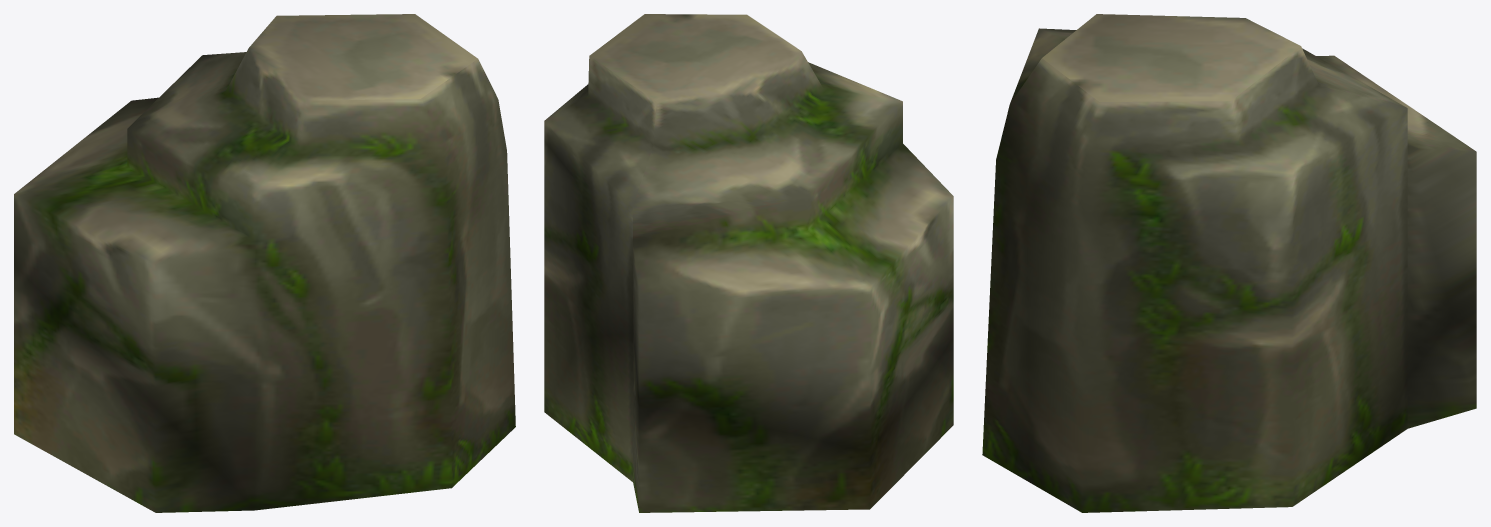
File: RockFormation_4_5 (26).fbx
The picture shows the model from 3 angles, left to right: view 1: azimuth 30°, elevation 25°; view 2: azimuth 150°, elevation 25°; view 3: azimuth 270°, elevation 25°; orthographic projection. The views are drawn at different scales.
Parts seen in each view (by area): view 1: RockFormation_4_5 (26); view 2: RockFormation_4_5 (26); view 3: RockFormation_4_5 (26).
Boxes of the visible parts, x1,y1,x2,y2 form: RockFormation_4_5 (26): (14,14,515,512); RockFormation_4_5 (26): (544,14,953,512); RockFormation_4_5 (26): (982,14,1476,512).
Bounding box in the file's own units: 361 × 333 × 377.
Materials: 1 (1 with a texture image).
